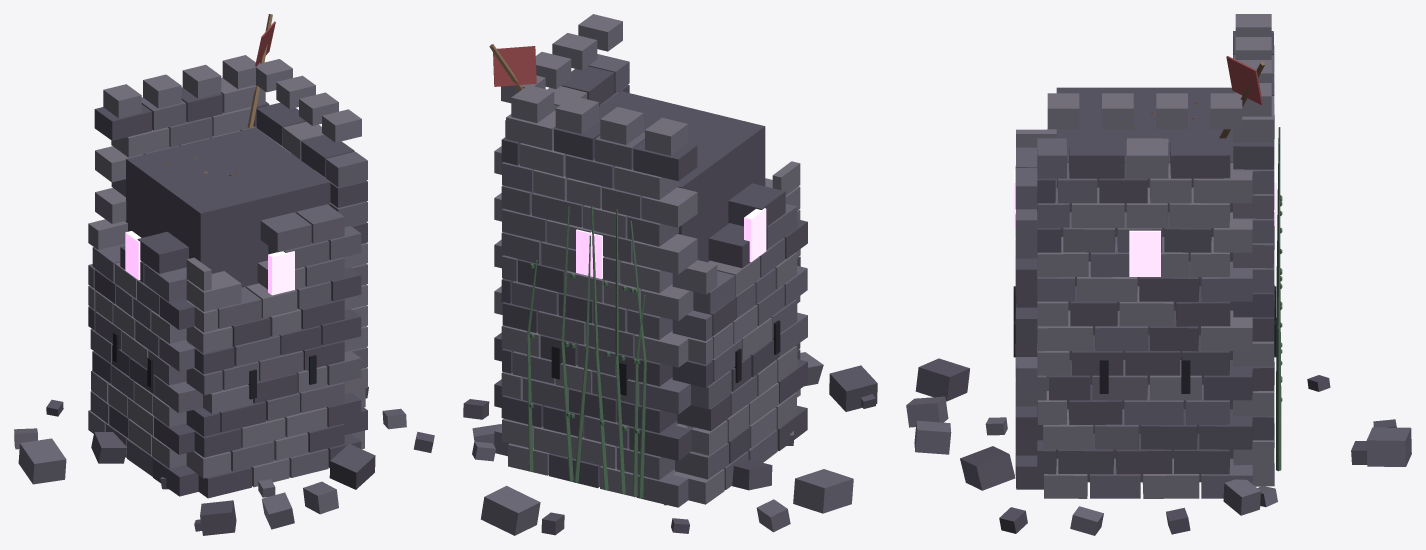
The model's file is castle_tower.glb.
The picture shows the model from 3 angles, left to right: view 1: azimuth 30°, elevation 25°; view 2: azimuth 150°, elevation 25°; view 3: azimuth 270°, elevation 25°; orthographic projection. The views are drawn at different scales.
Visible parts, largest first — view 1: castle_tower; view 2: castle_tower; view 3: castle_tower.
Boxes of the visible parts, box(x1,y1,x2,y2) form: castle_tower: box(14, 14, 434, 535); castle_tower: box(463, 14, 877, 535); castle_tower: box(906, 14, 1411, 535).
Bounding box in the file's own units: 10.27 × 10.81 × 11.17.
